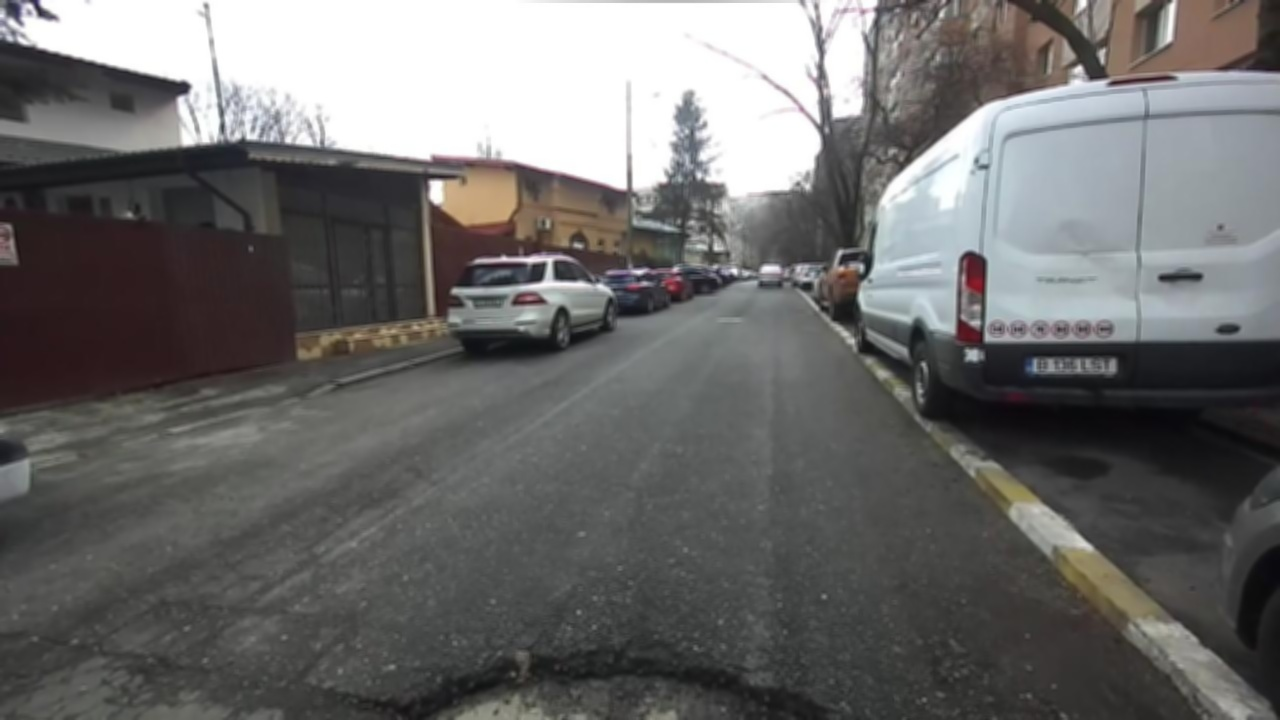pothole: (328, 632, 880, 718)
